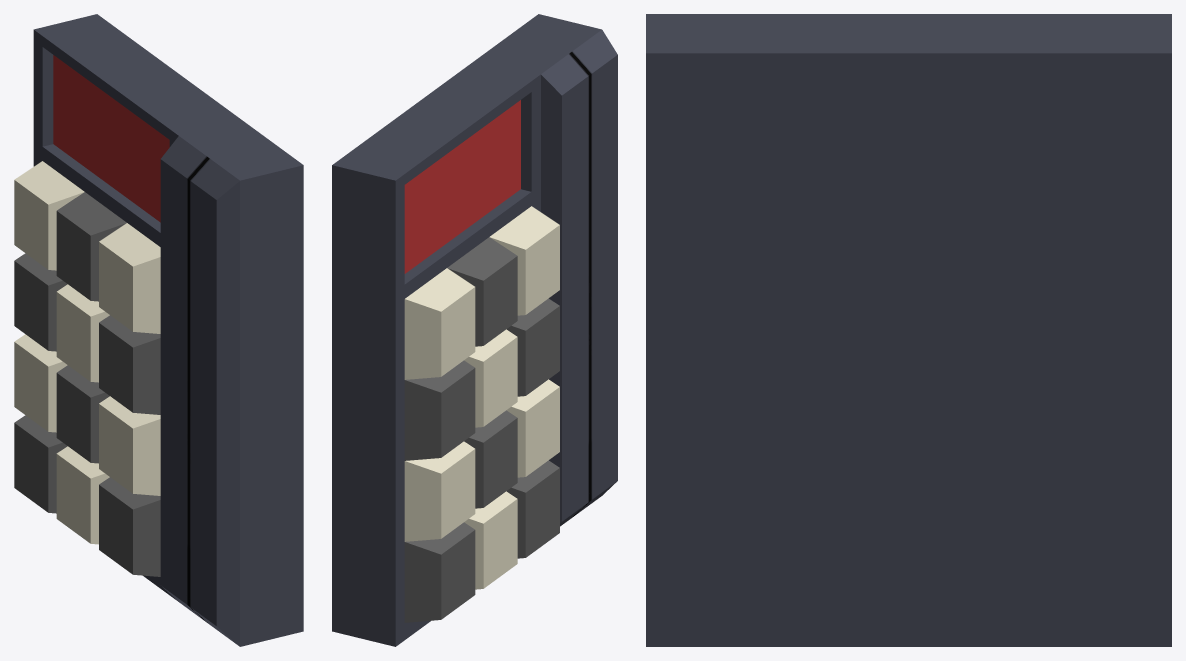
File: mdlKeypad.fbx
3 views of the same model, side by side, from view 1: azimuth 30°, elevation 25°; view 2: azimuth 150°, elevation 25°; view 3: azimuth 270°, elevation 25° (orthographic). The views are drawn at different scales.
Visible parts, largest first — view 1: KeypadPanel; view 2: KeypadPanel; view 3: KeypadPanel.
Part boxes in pixels (x1,y1,x2,y2): KeypadPanel: [14, 14, 303, 646]; KeypadPanel: [332, 14, 617, 646]; KeypadPanel: [646, 14, 1171, 646].
Bounding box in the file's own units: 0.3803 × 1.76 × 1.42.
1 material, 1 textured.
